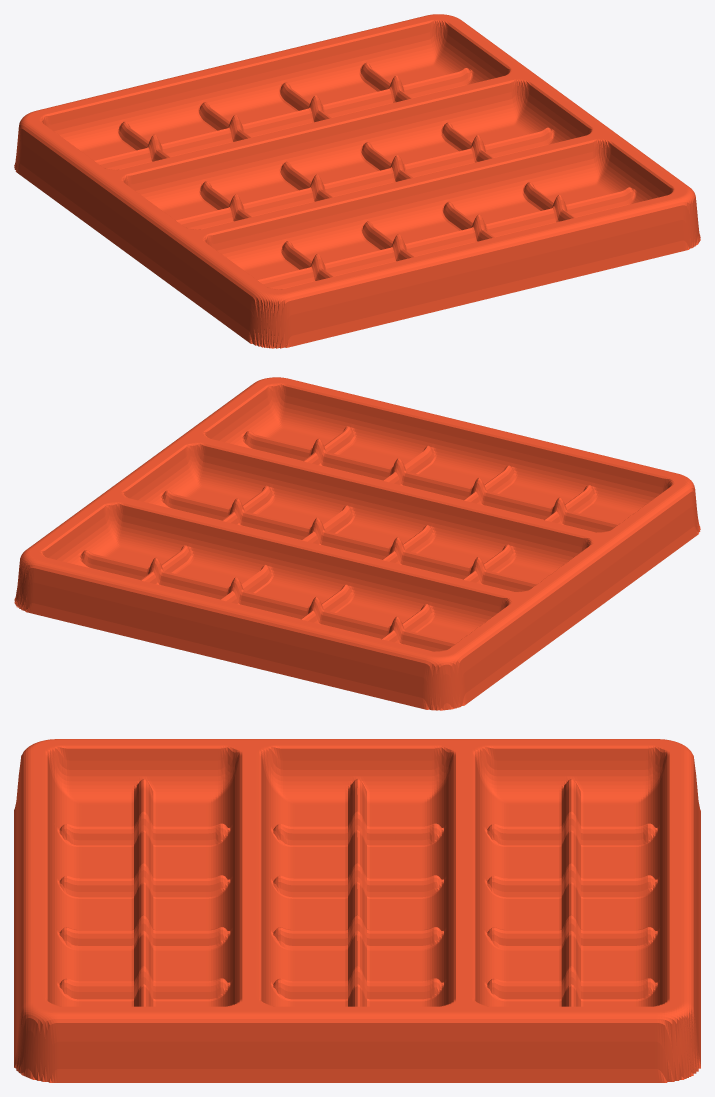
The model's file is mold.glb.
3 renders of one model, top to bottom at view 1: azimuth 30°, elevation 25°; view 2: azimuth 150°, elevation 25°; view 3: azimuth 270°, elevation 25°, orthographic. The views are drawn at different scales.
Visible parts, largest first — view 1: geometry_0; view 2: geometry_0; view 3: geometry_0.
Part boxes in pixels (box(x1,y1,x2,y2)): geometry_0: box(14, 14, 700, 348); geometry_0: box(14, 377, 700, 710); geometry_0: box(14, 739, 700, 1082).
Size of the model in its own units: 0.1415 by 0.0145 by 0.143.
